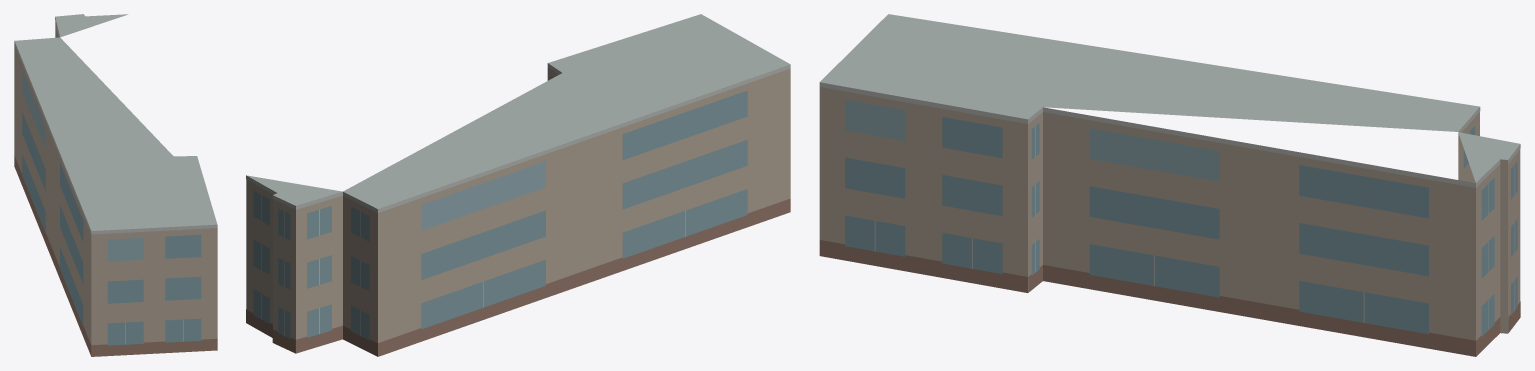
Rendered from survey-upis-32749819.glb.
3 renders of one model, left to right at view 1: azimuth 30°, elevation 25°; view 2: azimuth 150°, elevation 25°; view 3: azimuth 270°, elevation 25°, orthographic. The views are drawn at different scales.
Parts seen in each view (by area): view 1: survey-upis-32749819.tmp; view 2: survey-upis-32749819.tmp; view 3: survey-upis-32749819.tmp.
Boxes of the visible parts, <box> form: survey-upis-32749819.tmp: <box>14,14,217,356</box>; survey-upis-32749819.tmp: <box>246,14,790,356</box>; survey-upis-32749819.tmp: <box>819,14,1520,356</box>.
Size of the model in its own units: 18.8 by 9 by 32.91.
